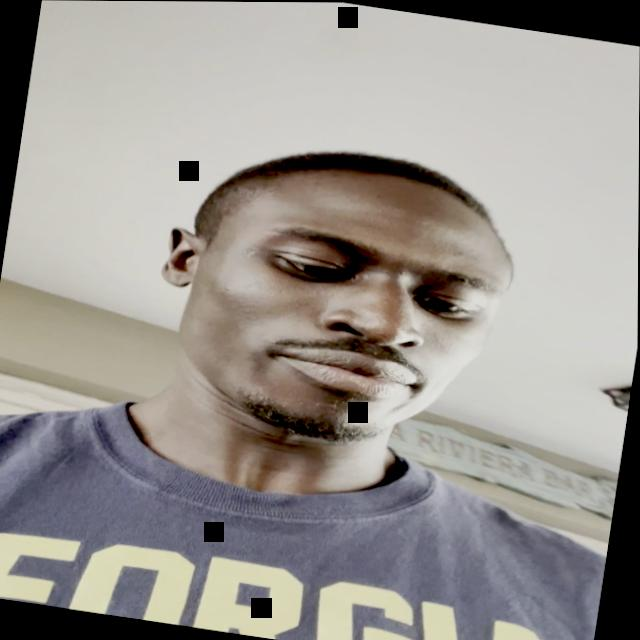NO-Mask: (148, 146, 533, 482)
